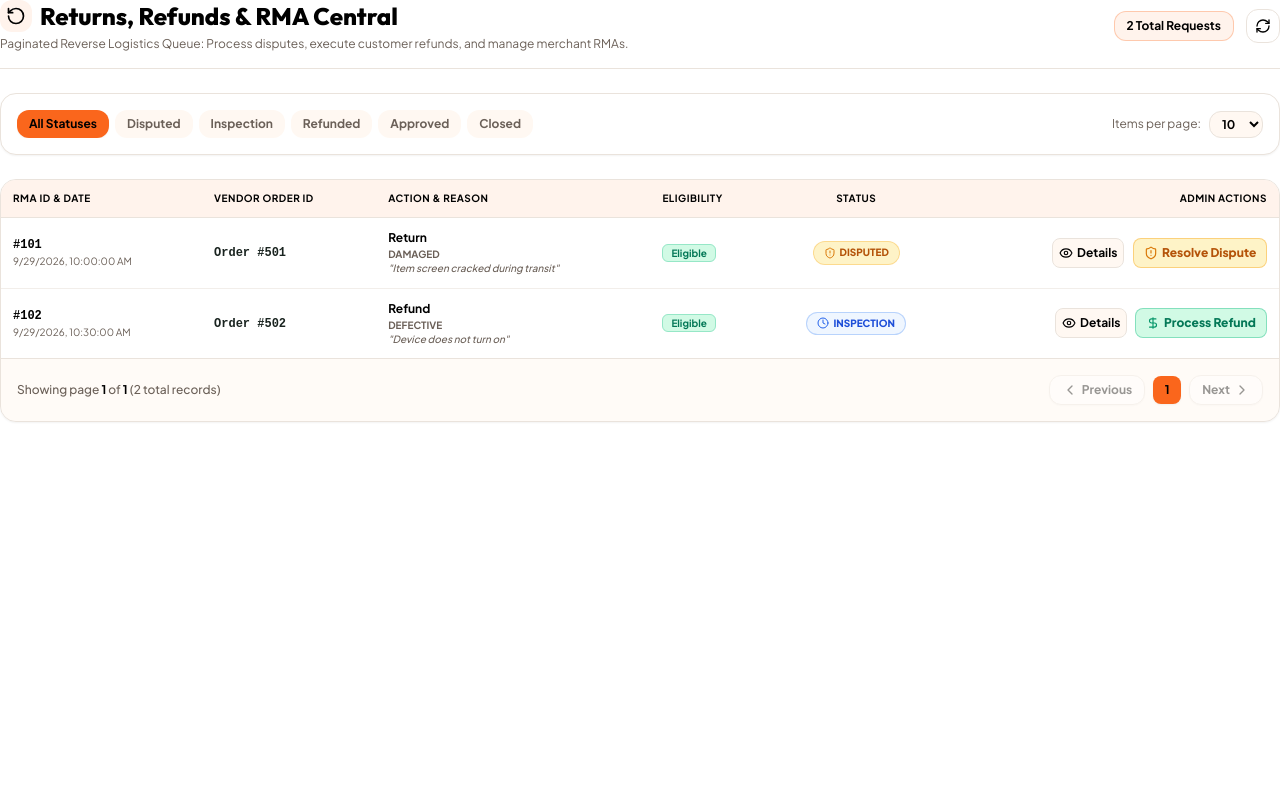
Test: RmaModule — Real Admin RMA Operations Suite › handles rejection of invalid repeat actions showing real backend error message
Click the button "Resolve Dispute".
click(1200, 253)  # box [1133, 238, 1267, 268]
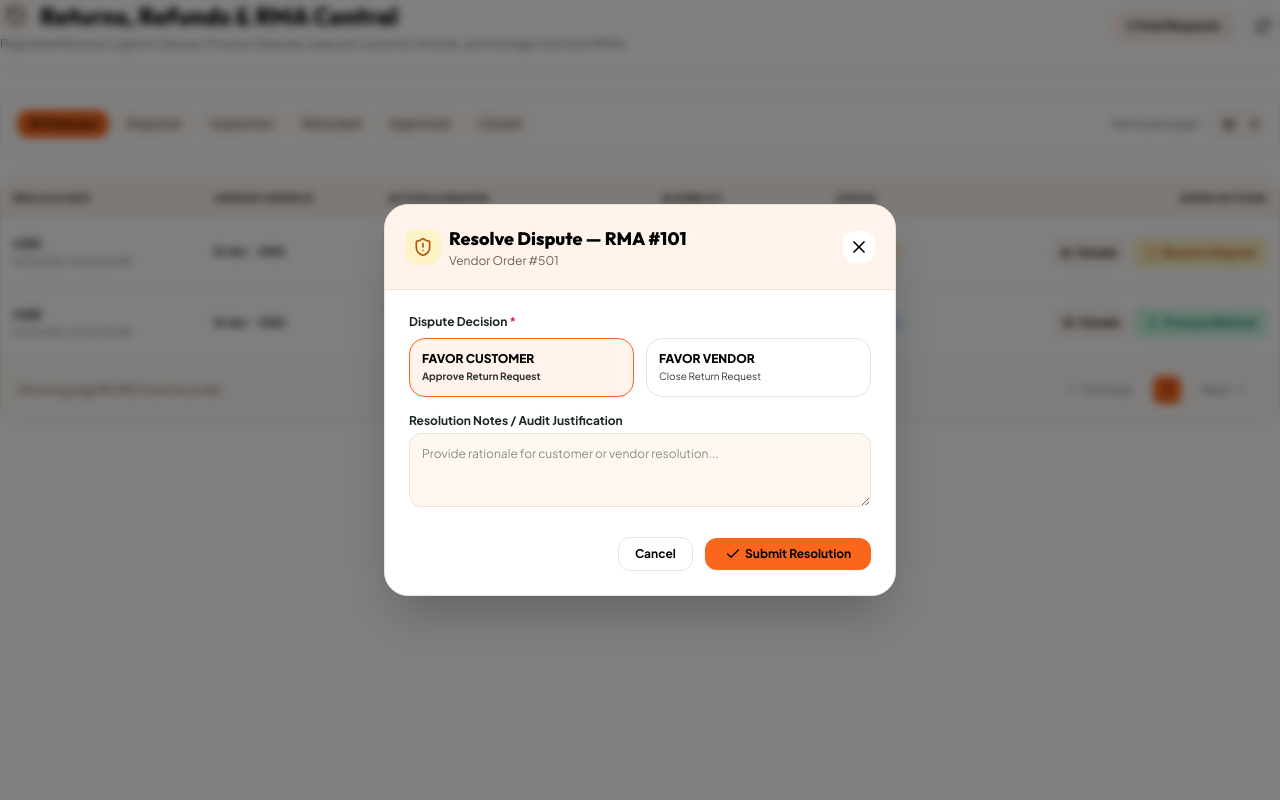
Click the button "Submit Resolution".
click(788, 554)  # box [705, 538, 871, 570]
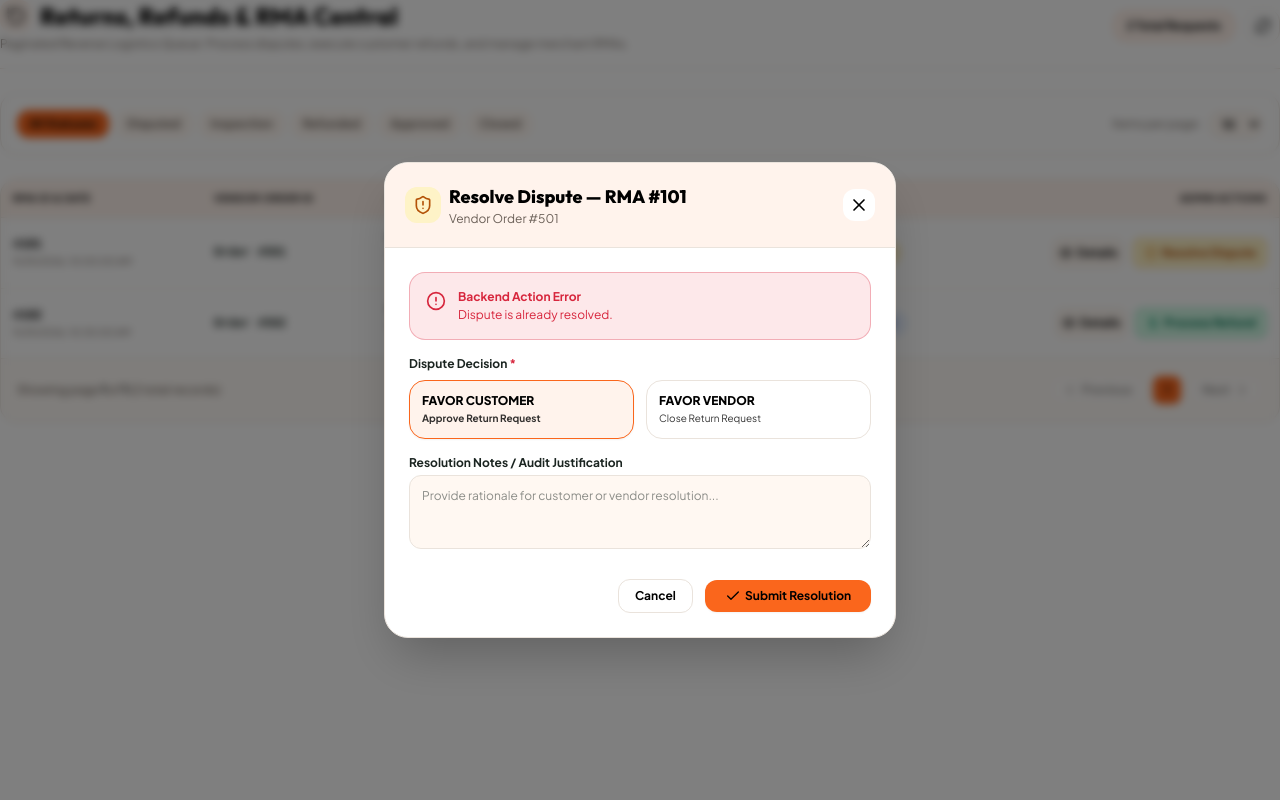
expect the text "Backend Action Error" is shown: met, box [458, 289, 581, 304]
expect the text "Dispute is already resolved." is shown: met, box [458, 307, 613, 322]
